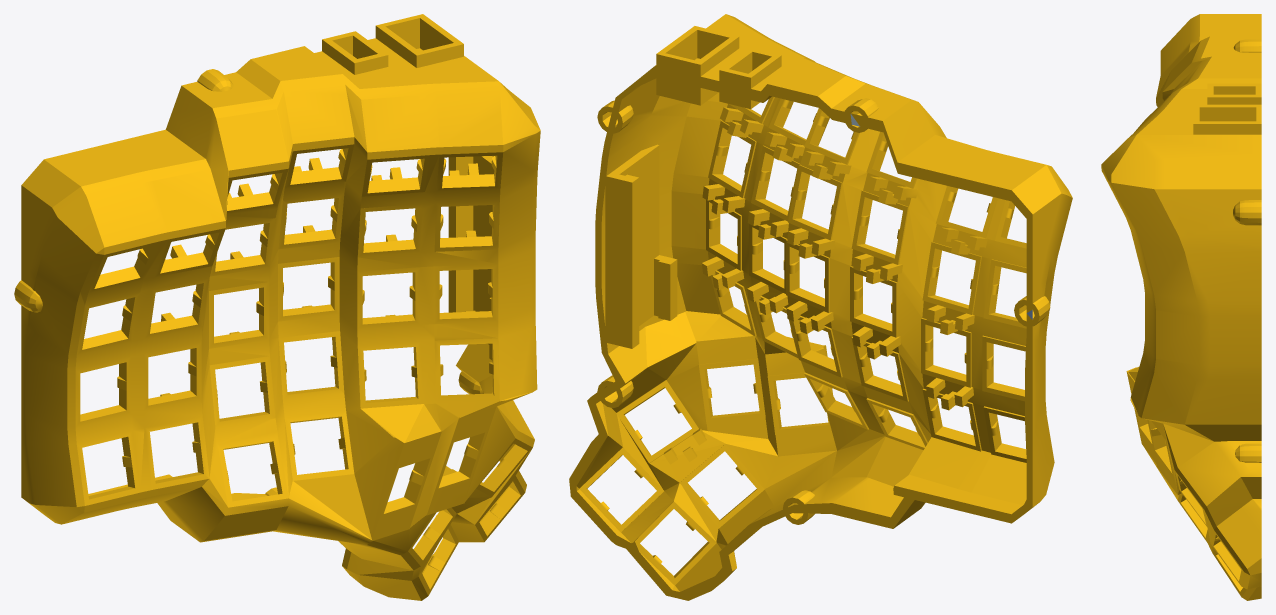
Rendered from dactyl-manuform-left-5x6.gltf.
3 renders of one model, left to right at view 1: azimuth 30°, elevation 25°; view 2: azimuth 150°, elevation 25°; view 3: azimuth 270°, elevation 25°, orthographic. The views are drawn at different scales.
Parts seen in each view (by area): view 1: Surface 1; view 2: Surface 1; view 3: Surface 1.
Boxes of the visible parts, box(x1,y1,x2,y2) form: Surface 1: box(14, 14, 540, 600); Surface 1: box(569, 14, 1072, 600); Surface 1: box(1101, 14, 1261, 600).
Size of the model in its own units: 0.1572 by 0.1715 by 0.0521.
